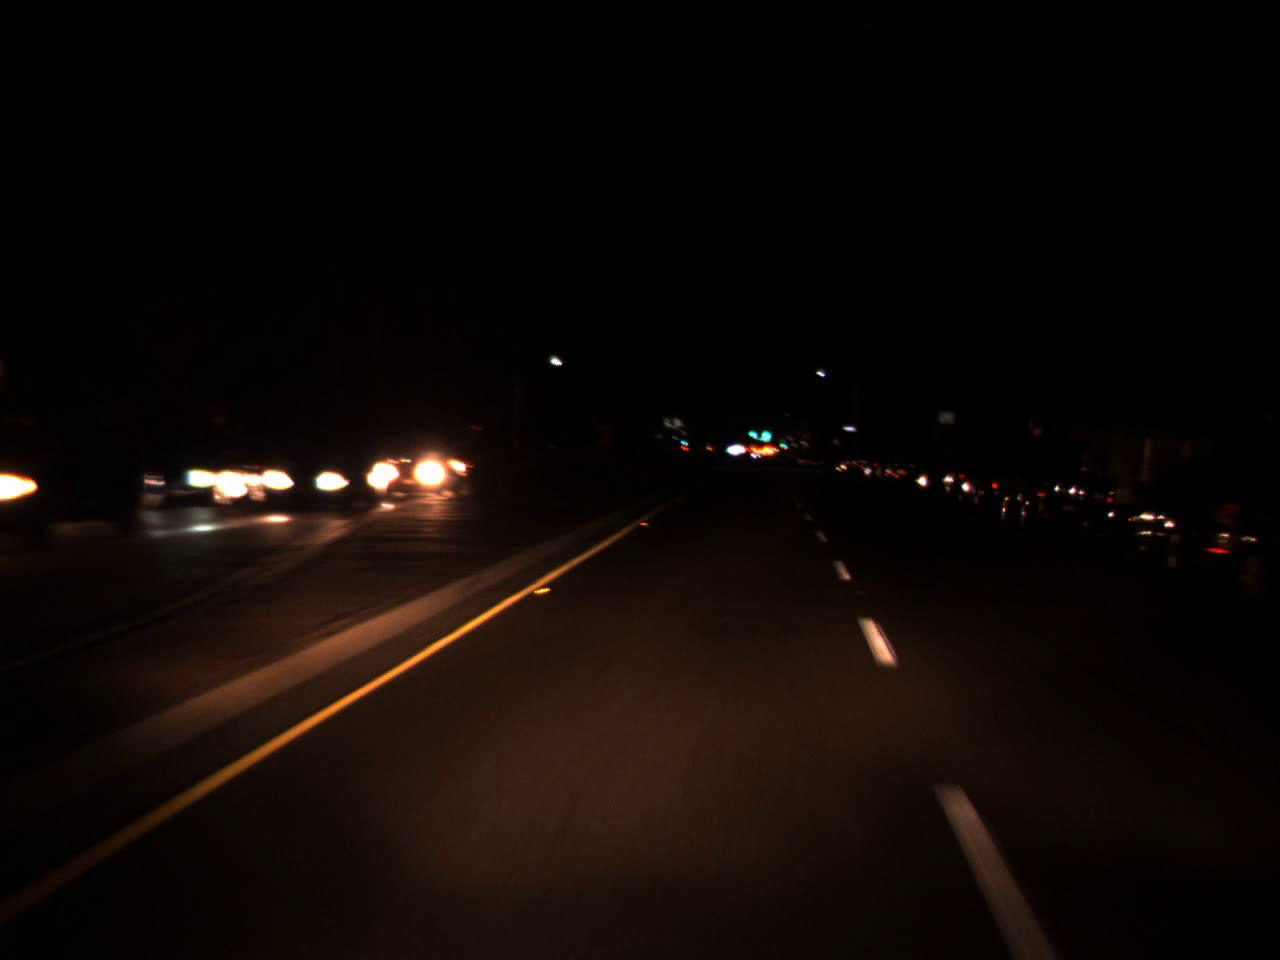go: (755, 419, 773, 441), (743, 419, 757, 440), (775, 432, 787, 450), (677, 434, 687, 446)
